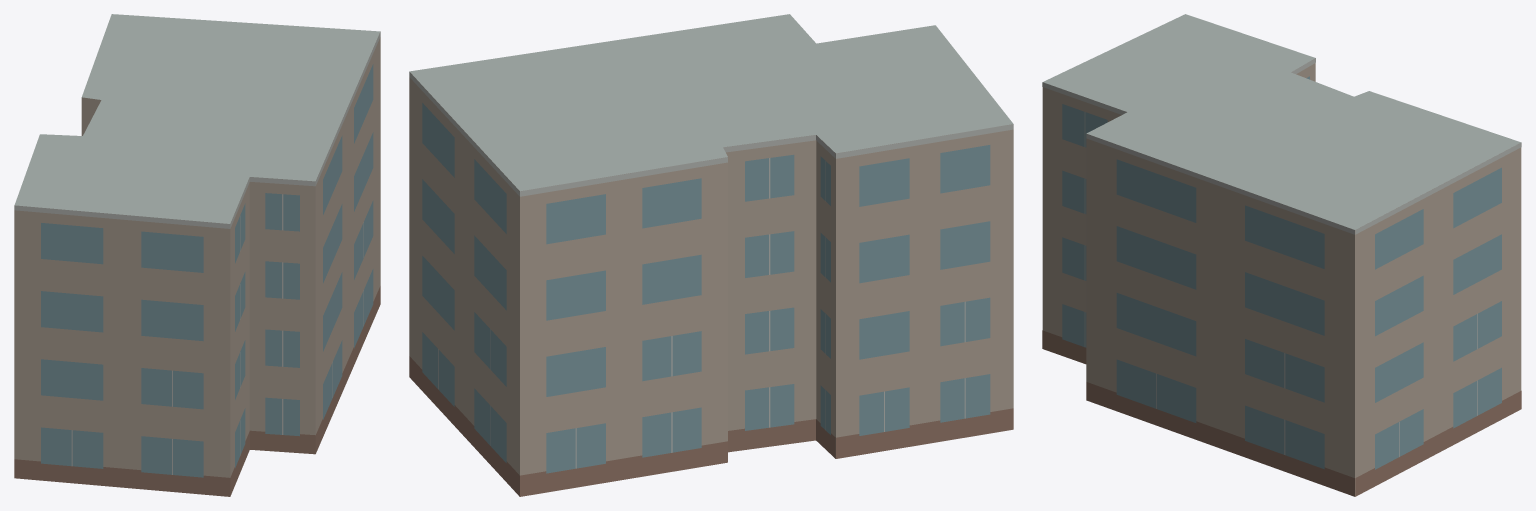
Rendered from survey-upis-32526309.glb.
The picture shows the model from 3 angles, left to right: view 1: azimuth 30°, elevation 25°; view 2: azimuth 150°, elevation 25°; view 3: azimuth 270°, elevation 25°; orthographic projection. The views are drawn at different scales.
Visible parts, largest first — view 1: survey-upis-32526309.tmp; view 2: survey-upis-32526309.tmp; view 3: survey-upis-32526309.tmp.
Part boxes in pixels (box(x1,y1,x2,y2)): survey-upis-32526309.tmp: box(14, 14, 380, 496); survey-upis-32526309.tmp: box(409, 14, 1013, 496); survey-upis-32526309.tmp: box(1042, 14, 1521, 496).
Bounding box in the file's own units: 23.45 × 13.5 × 21.97.
